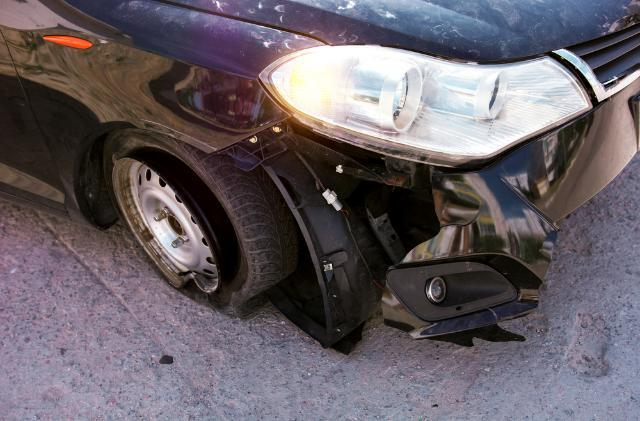no part: (216, 74, 640, 343)
tire flat: (104, 129, 304, 319)
